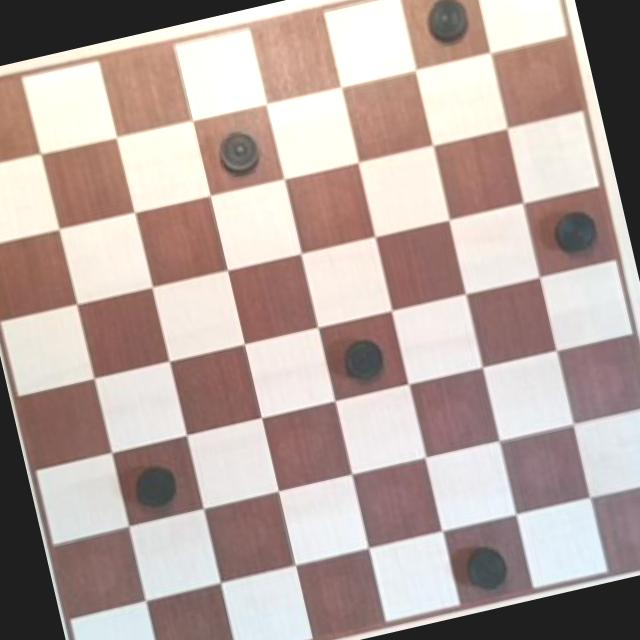BOARD: (0, 0, 640, 640)
black: (455, 530, 517, 600), (203, 121, 269, 182), (543, 200, 605, 264), (331, 330, 394, 391), (126, 450, 186, 513), (415, 0, 475, 51)
